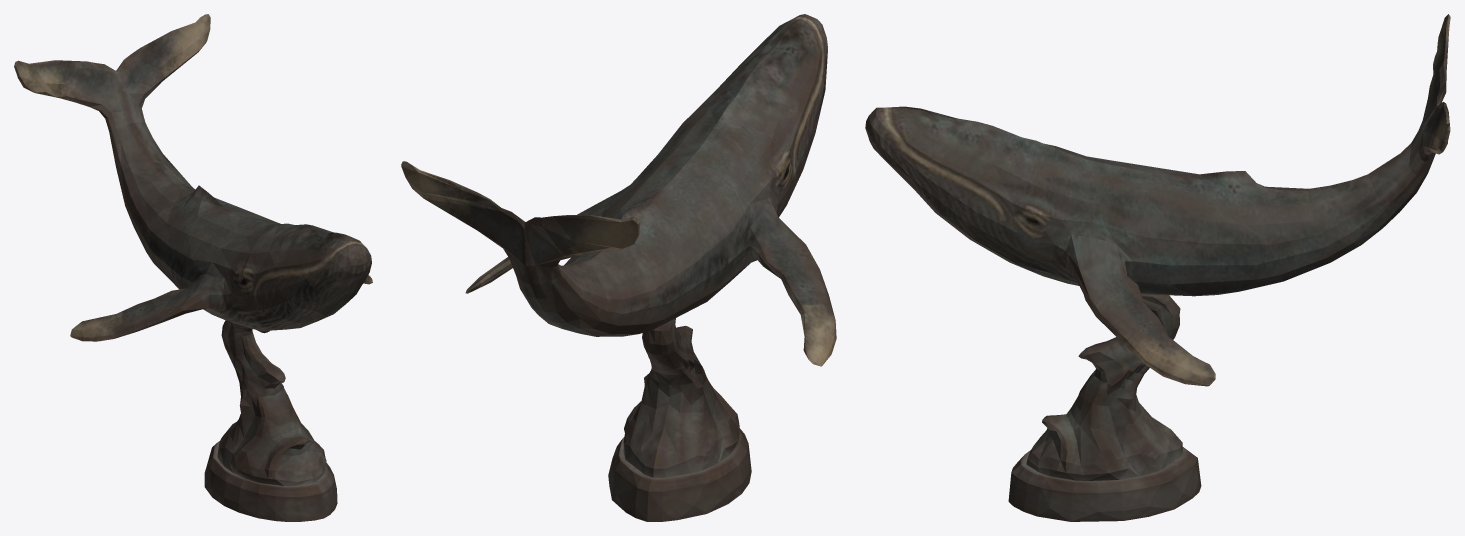
File: bronze_whale_statue.glb
3 renders of one model, left to right at view 1: azimuth 30°, elevation 25°; view 2: azimuth 150°, elevation 25°; view 3: azimuth 270°, elevation 25°, orthographic. The views are drawn at different scales.
Parts seen in each view (by area): view 1: bronze_whale_statue; view 2: bronze_whale_statue; view 3: bronze_whale_statue.
Part boxes in pixels (bbox=[...]): bronze_whale_statue: bbox=[14, 14, 372, 521]; bronze_whale_statue: bbox=[401, 14, 836, 521]; bronze_whale_statue: bbox=[865, 14, 1450, 521].
Size of the model in its own units: 0.9306 by 1.07 by 1.36.
1 material, 1 textured.
